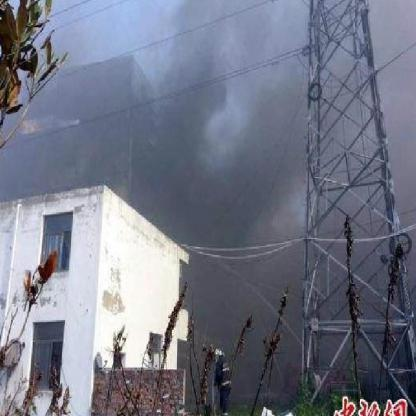smoke: (142, 59, 230, 223), (241, 80, 299, 204)
